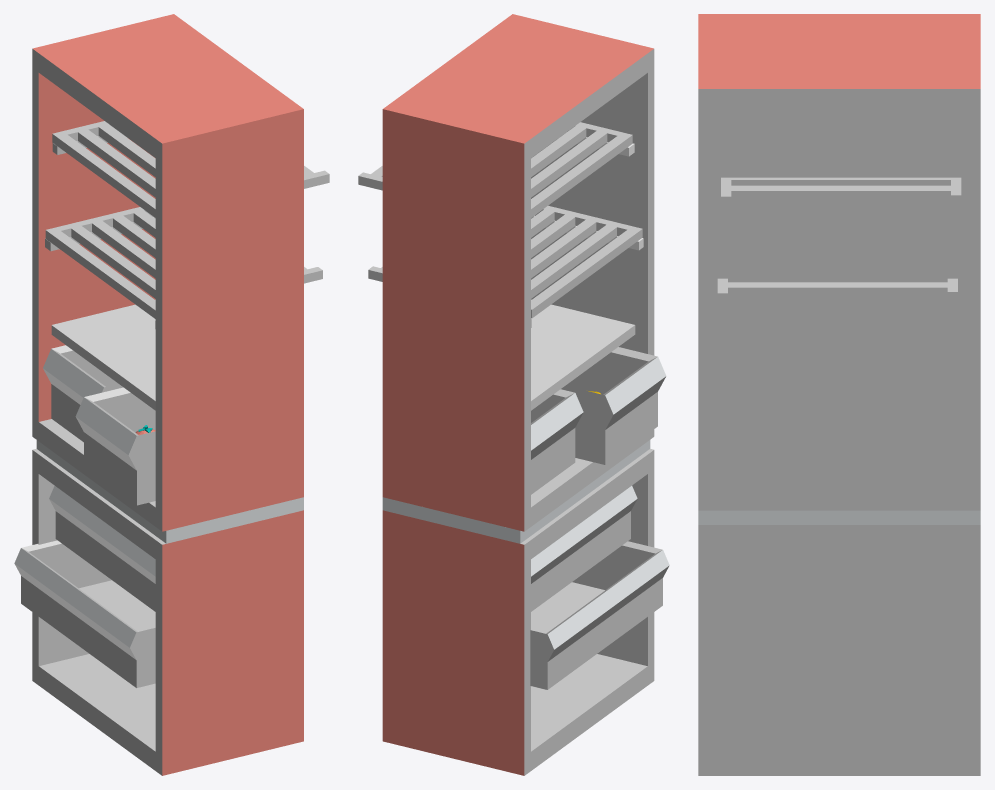
File: fridge.fbx
The picture shows the model from 3 angles, left to right: view 1: azimuth 30°, elevation 25°; view 2: azimuth 150°, elevation 25°; view 3: azimuth 270°, elevation 25°; orthographic projection. The views are drawn at different scales.
Visible parts, largest first — view 1: fridge; view 2: fridge; view 3: fridge.
Part boxes in pixels (x1,y1,x2,y2): fridge: (14,14,329,775); fridge: (358,14,669,775); fridge: (698,14,980,775).
Bounding box in the file's own units: 72.6 × 217 × 81.
